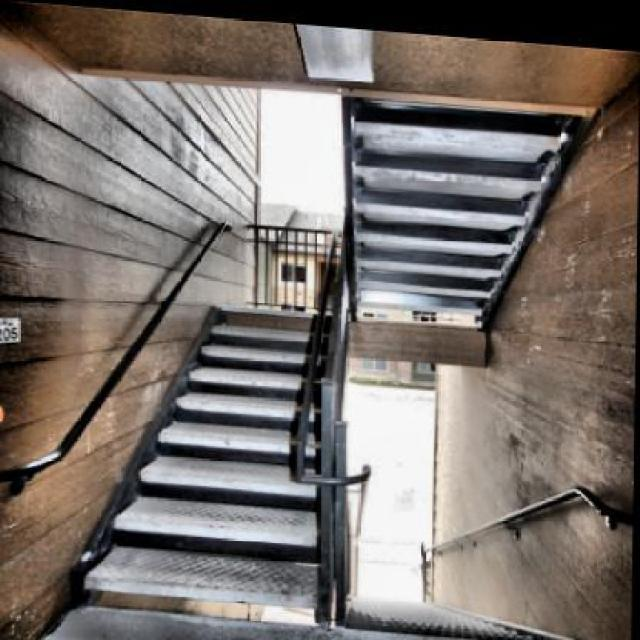stair: (71, 248, 337, 612)
